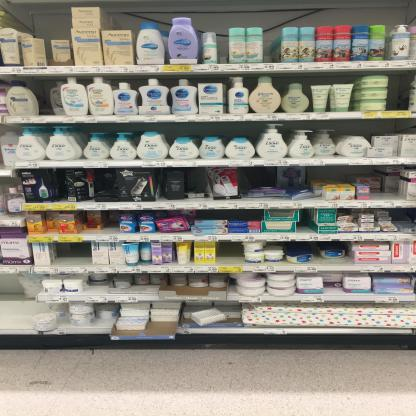Void: (4, 273, 32, 325), (57, 243, 89, 264), (243, 169, 276, 187), (216, 241, 242, 263), (201, 211, 258, 219), (185, 170, 207, 190), (313, 254, 350, 264), (396, 208, 415, 224), (104, 212, 118, 233)
